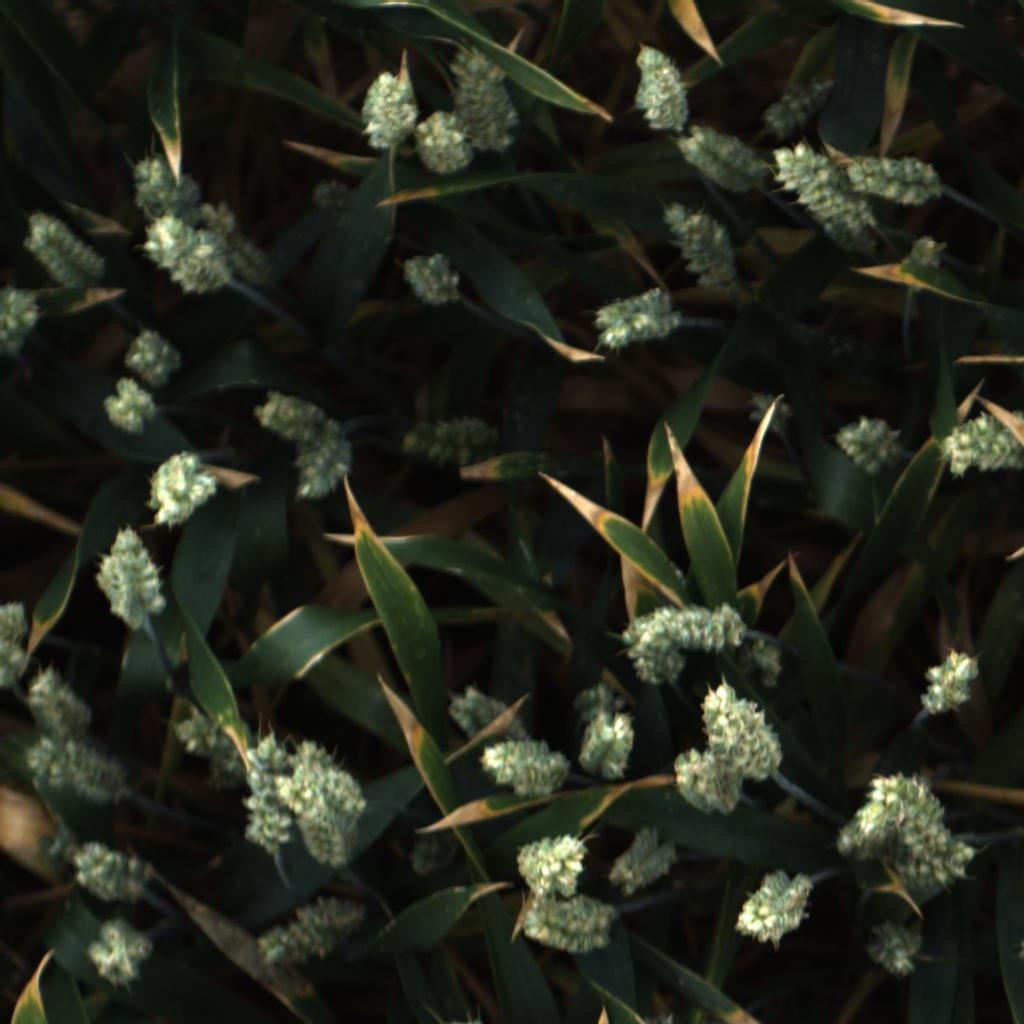0-0: (766, 133, 887, 258), (700, 679, 785, 788), (16, 208, 115, 301), (93, 518, 171, 635), (137, 214, 241, 301), (449, 39, 526, 156), (272, 769, 356, 875), (23, 735, 134, 806), (661, 196, 740, 293), (514, 890, 622, 960), (673, 124, 764, 204), (623, 38, 694, 135), (730, 869, 815, 950), (199, 195, 282, 277), (475, 737, 571, 807), (64, 831, 156, 904), (142, 444, 219, 530), (440, 684, 538, 751), (593, 279, 684, 351), (938, 409, 1024, 484), (131, 150, 210, 231), (844, 152, 950, 211), (294, 736, 369, 819), (19, 657, 93, 739), (510, 829, 592, 901), (396, 411, 500, 467), (605, 821, 681, 897), (358, 67, 422, 156), (254, 386, 345, 447), (289, 893, 370, 961), (85, 916, 158, 990), (621, 611, 691, 688), (673, 748, 744, 823), (862, 771, 950, 830), (834, 415, 909, 484), (912, 650, 985, 720), (887, 836, 984, 888), (571, 712, 640, 785), (292, 427, 358, 503), (396, 245, 469, 313), (758, 73, 831, 140), (662, 598, 749, 654), (560, 672, 632, 739), (0, 588, 42, 701), (415, 108, 478, 183), (862, 918, 932, 985), (831, 805, 900, 868), (100, 373, 162, 439), (238, 785, 297, 853), (244, 733, 298, 805), (123, 325, 184, 383), (3, 286, 46, 365), (171, 703, 232, 756), (405, 824, 459, 883), (307, 174, 364, 221), (254, 922, 309, 970), (901, 233, 946, 287), (901, 810, 955, 855), (746, 387, 795, 436), (205, 742, 251, 793), (745, 633, 783, 679)
